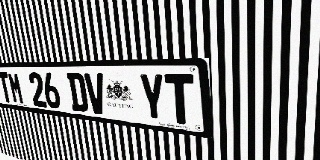2: (28, 72, 47, 107)
6: (41, 72, 61, 109)
D: (66, 73, 89, 113)
M: (7, 72, 25, 105)
T: (164, 74, 196, 126), (0, 72, 13, 103)
V: (84, 73, 108, 115)
Y: (138, 73, 167, 122)
